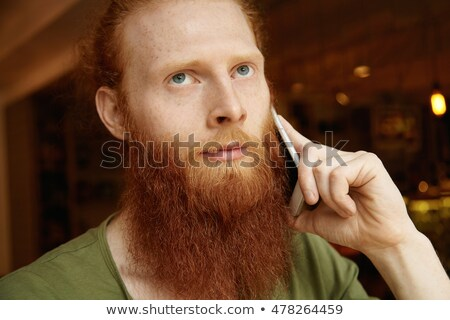phone: (258, 80, 328, 218)
talk: (155, 48, 378, 242)
